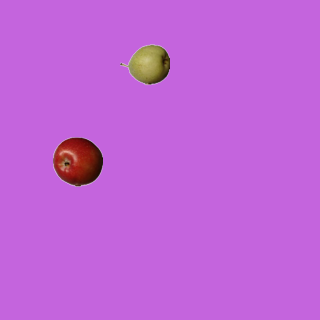Apple Braeburn: (52, 136, 102, 186)
Pear: (119, 39, 169, 89)
